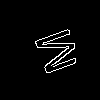M: (25, 25, 82, 81)
